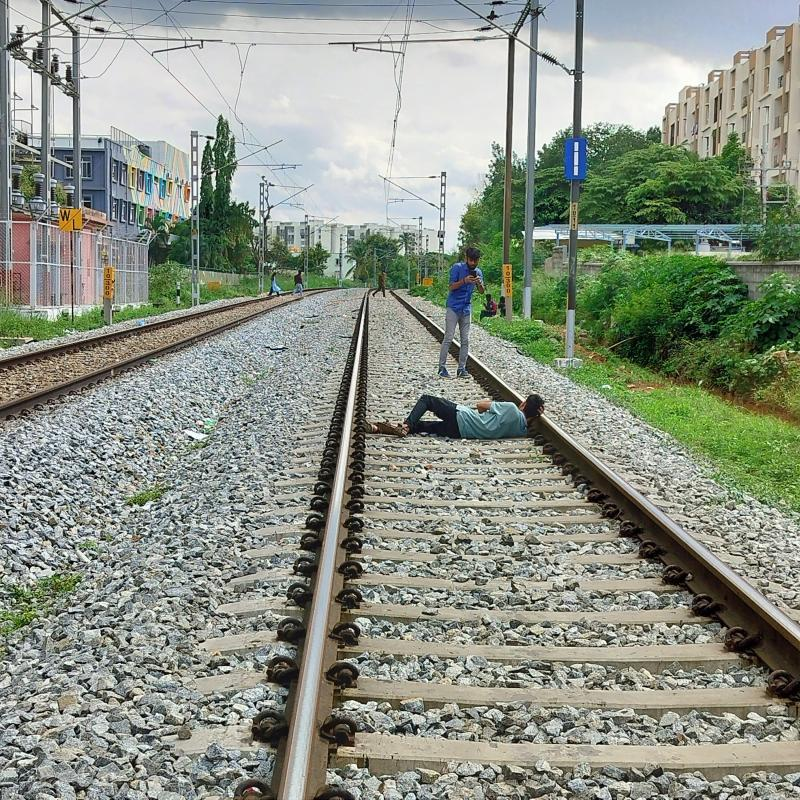sleeping: (363, 390, 556, 451)
